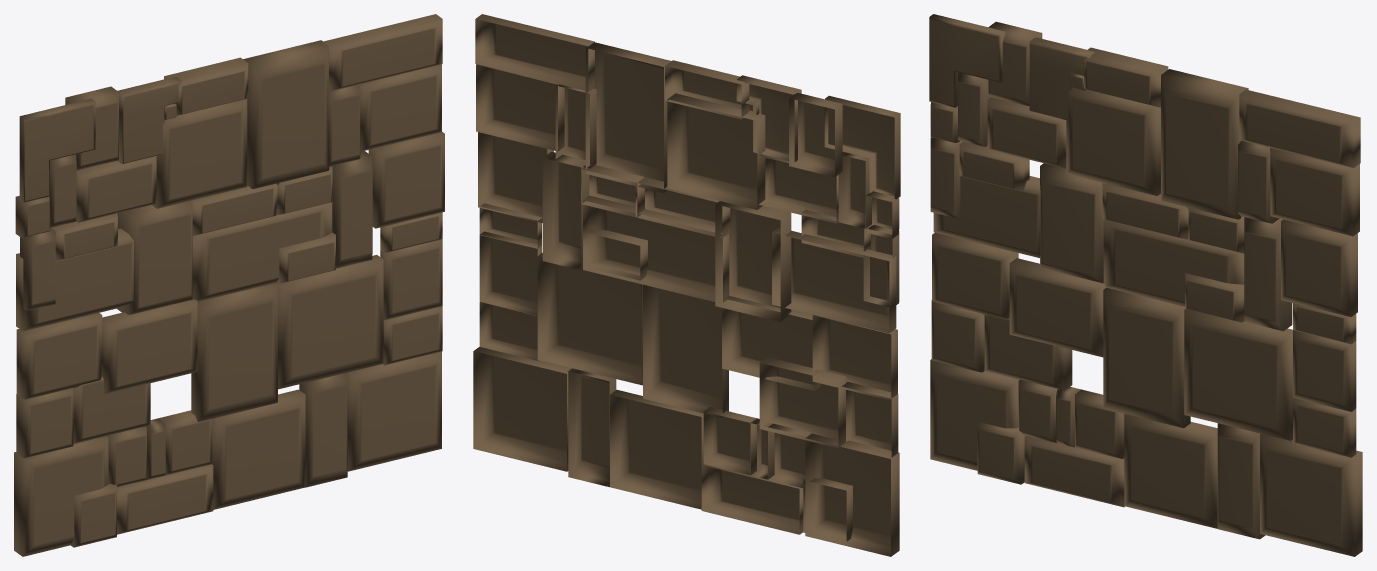
The model's file is Add4.fbx.
3 views of the same model, side by side, from view 1: azimuth 30°, elevation 25°; view 2: azimuth 150°, elevation 25°; view 3: azimuth 330°, elevation 25° (orthographic).
Parts seen in each view (by area): view 1: pCube84; view 2: pCube84; view 3: pCube84.
Part boxes in pixels (x1,y1,x2,y2): pCube84: (14, 14, 444, 556); pCube84: (473, 14, 900, 556); pCube84: (929, 14, 1362, 556).
Bounding box in the file's own units: 34.5 × 34.55 × 2.66.
